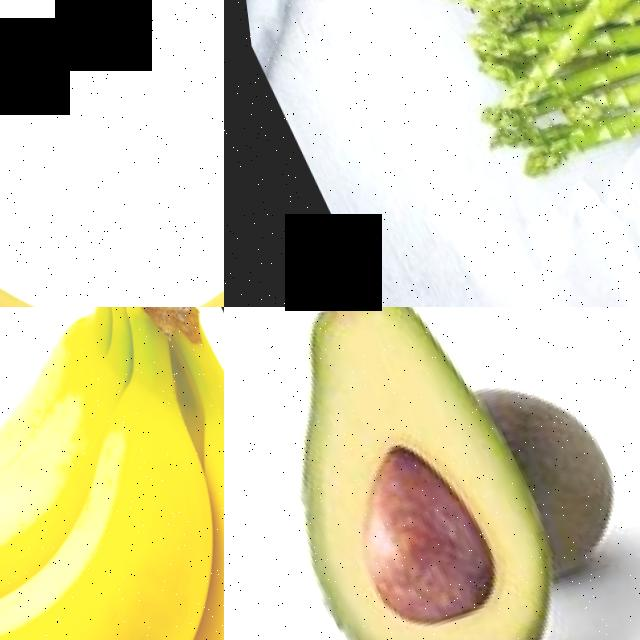asparagus: (492, 43, 640, 196), (478, 0, 640, 129), (540, 14, 640, 133), (563, 0, 640, 70)
avocado: (224, 307, 601, 640), (467, 344, 640, 589)
banana: (0, 307, 224, 640), (0, 0, 224, 307)
